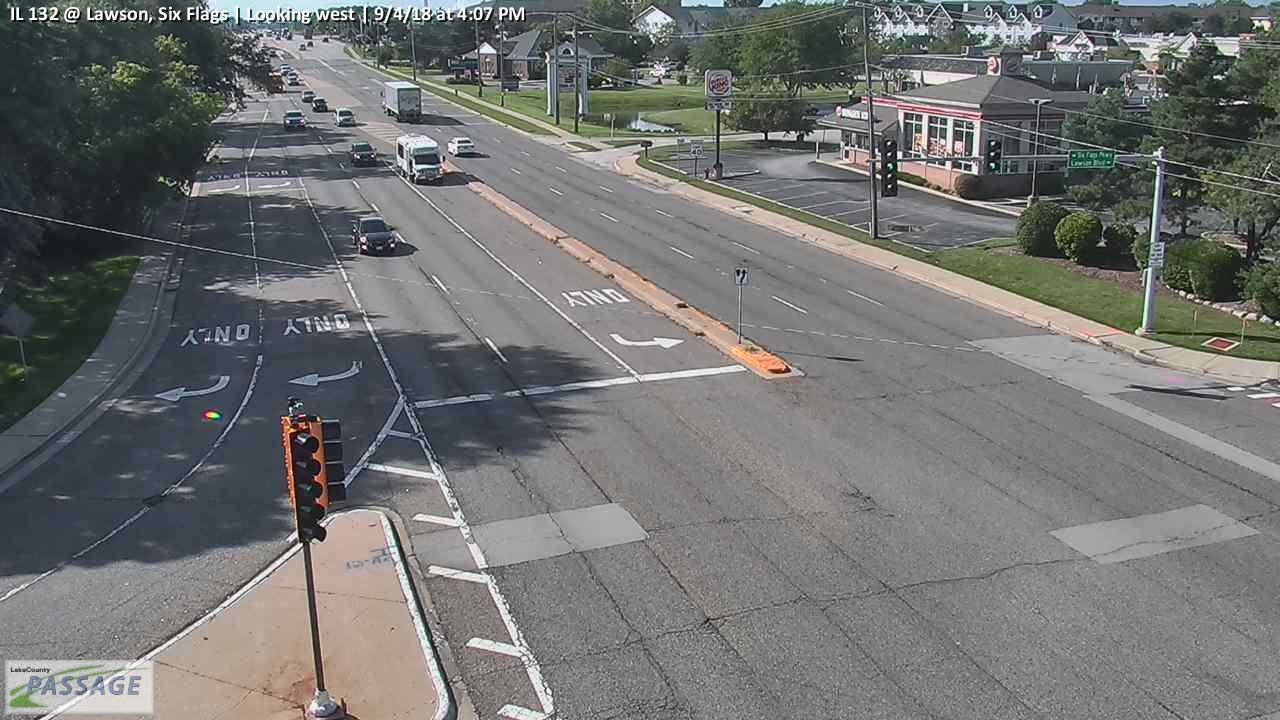SUV: (352, 216, 397, 255), (349, 142, 376, 167), (447, 135, 474, 156), (333, 107, 355, 127), (283, 110, 306, 129), (311, 97, 328, 112), (301, 90, 315, 102)
Truck: (395, 133, 446, 184), (380, 80, 421, 119)
